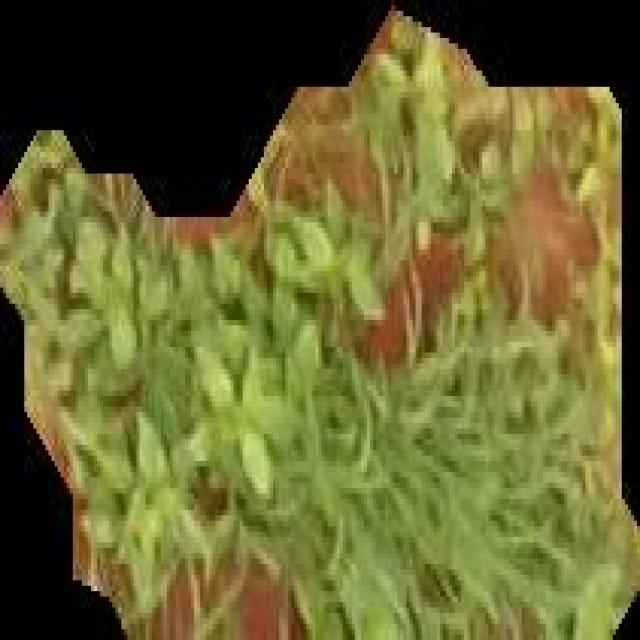Weed: (1, 4, 640, 640)
